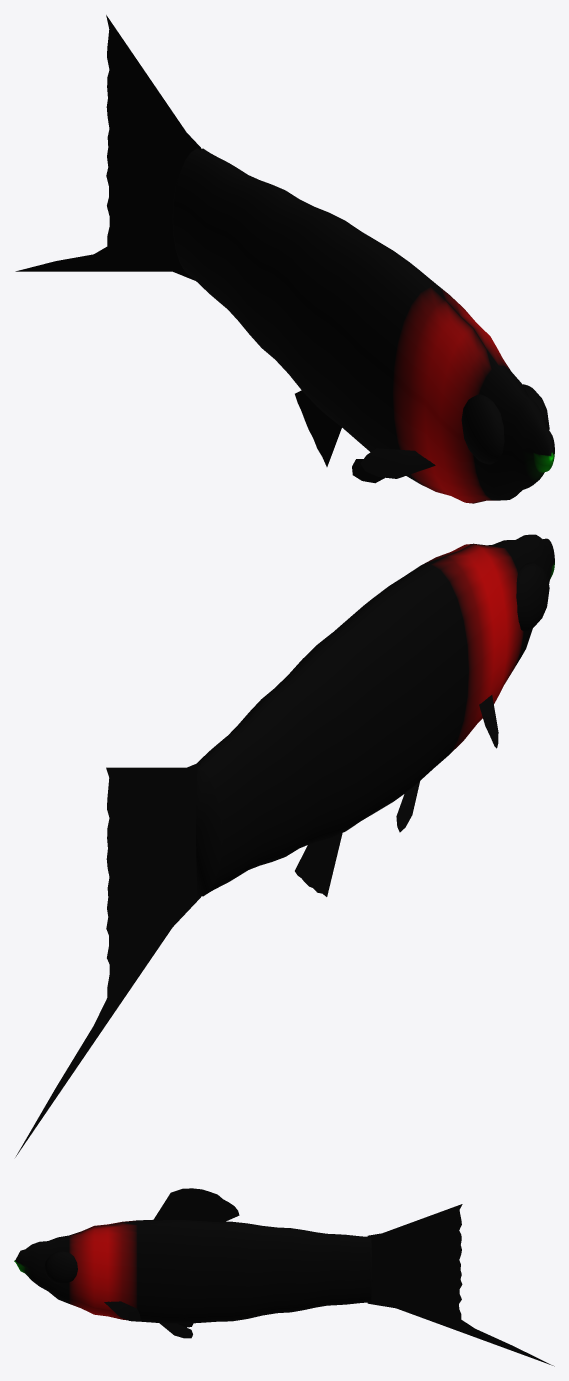
The model's file is swordtail.glb.
The picture shows the model from 3 angles, top to bottom: view 1: azimuth 30°, elevation 25°; view 2: azimuth 150°, elevation 25°; view 3: azimuth 270°, elevation 25°; orthographic projection. The views are drawn at different scales.
Visible parts, largest first — view 1: swordm_body, swordm_caudal, swordm_eyeL, swordm_pectoralL, swordm_anal; view 2: swordm_body, swordm_caudal, swordm_eyeL, swordm_anal; view 3: swordm_body, swordm_caudal, swordm_dorsal, swordm_eyeR, swordm_pectoralR, swordm_pelvicR.
Boxes of the visible parts, x1,y1,x2,y2 form: swordm_body: (172,148,554,503); swordm_caudal: (15,15,200,280); swordm_eyeL: (461,394,504,464); swordm_pectoralL: (360,448,435,478); swordm_anal: (295,390,341,466); swordm_body: (196,534,554,896); swordm_caudal: (15,762,200,1157); swordm_eyeL: (516,562,549,631); swordm_anal: (295,833,342,896); swordm_body: (14,1220,372,1323); swordm_caudal: (367,1204,554,1366); swordm_dorsal: (153,1188,239,1222); swordm_eyeR: (44,1251,77,1283); swordm_pectoralR: (104,1301,140,1321); swordm_pelvicR: (159,1322,192,1338).
Bounding box in the file's own units: 0.2175 × 0.5501 × 1.51.
